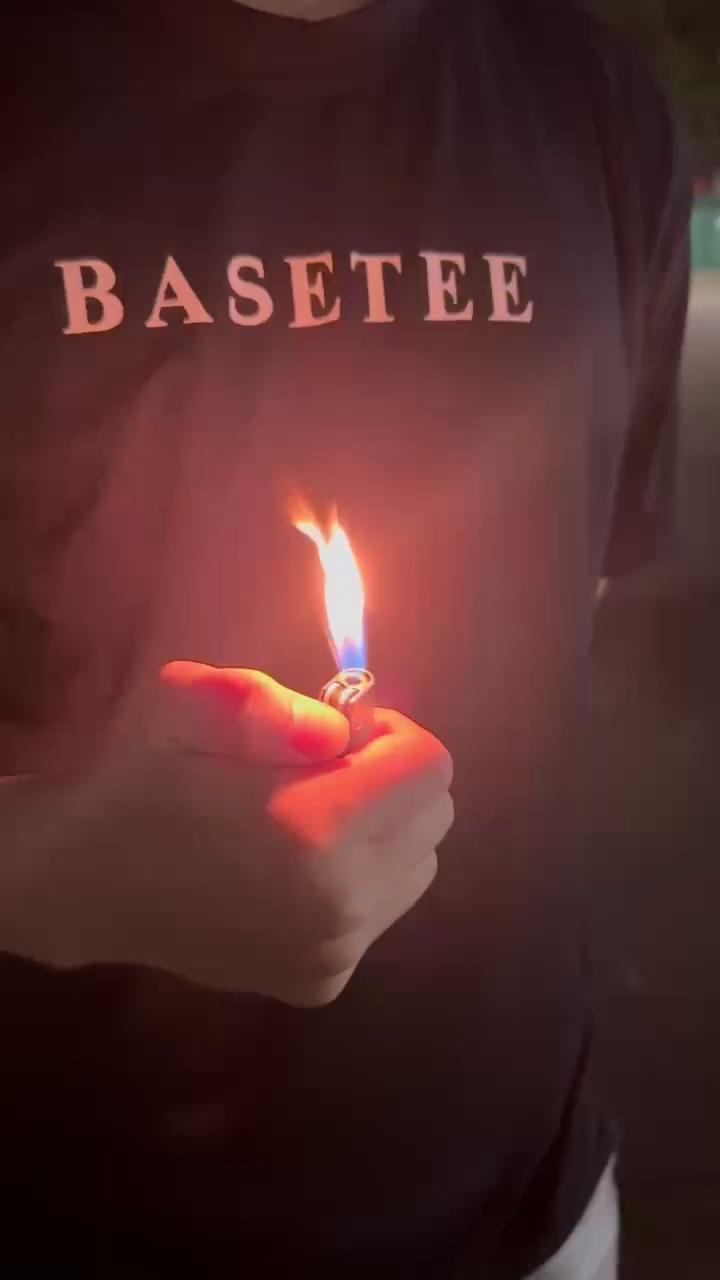Fire: (303, 492, 420, 695)
